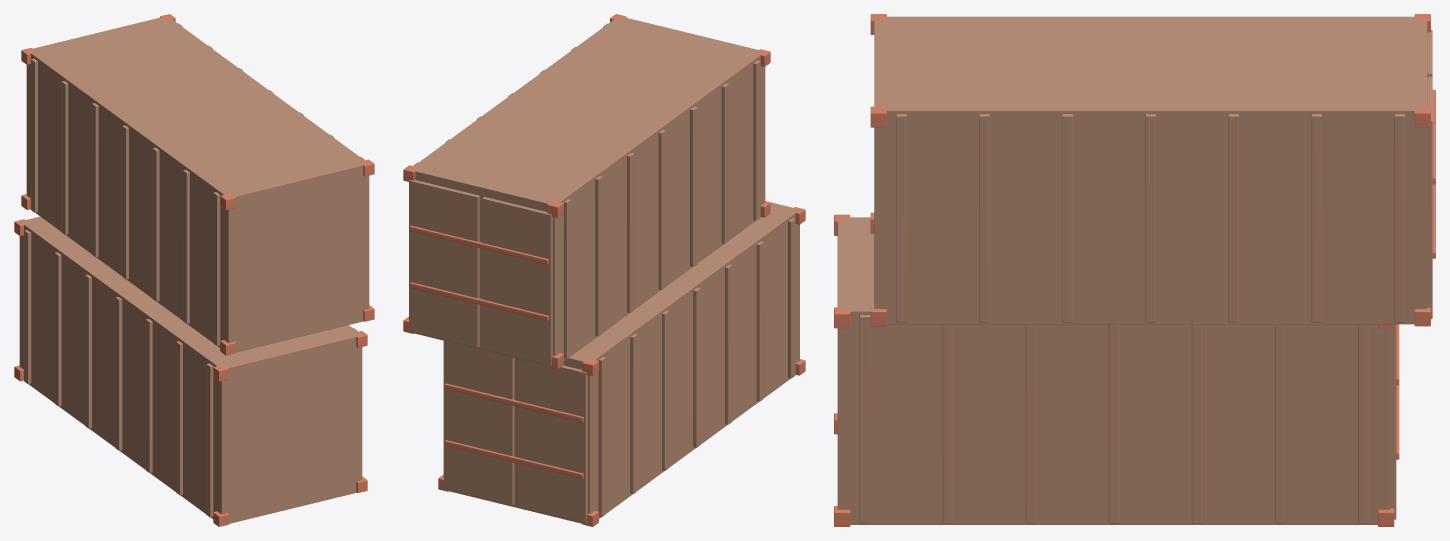
Rendered from container_stack2.glb.
The picture shows the model from 3 angles, left to right: view 1: azimuth 30°, elevation 25°; view 2: azimuth 150°, elevation 25°; view 3: azimuth 270°, elevation 25°; orthographic projection. The views are drawn at different scales.
Visible parts, largest first — view 1: container_stack2; view 2: container_stack2; view 3: container_stack2.
Part boxes in pixels (x1=…): container_stack2: x1=14, y1=14, x2=374, y2=526; container_stack2: x1=403, y1=14, x2=805, y2=526; container_stack2: x1=834, y1=14, x2=1435, y2=526.
Size of the model in its own units: 2.93 by 5.18 by 6.6.
